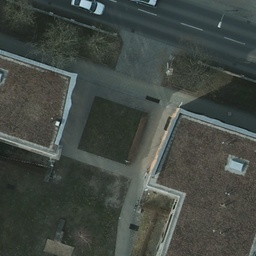car: (71, 1, 108, 18)
